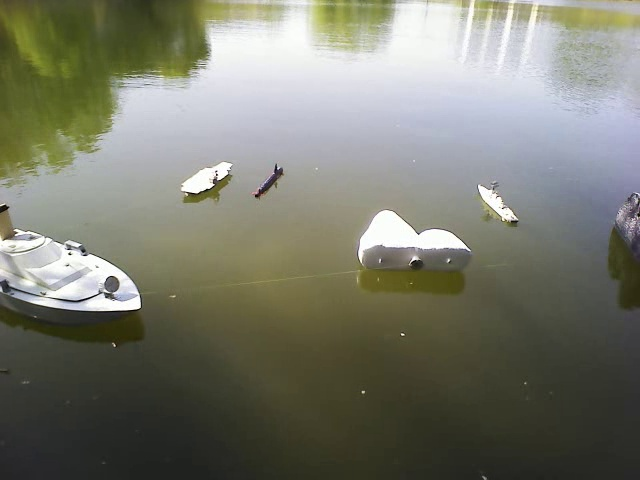aircraft_carrier: (179, 160, 238, 196)
boat: (4, 219, 145, 325)
iceberg: (359, 207, 469, 277)
rock: (615, 192, 639, 256)
submarine: (254, 165, 287, 200)
warship: (475, 179, 519, 228)
